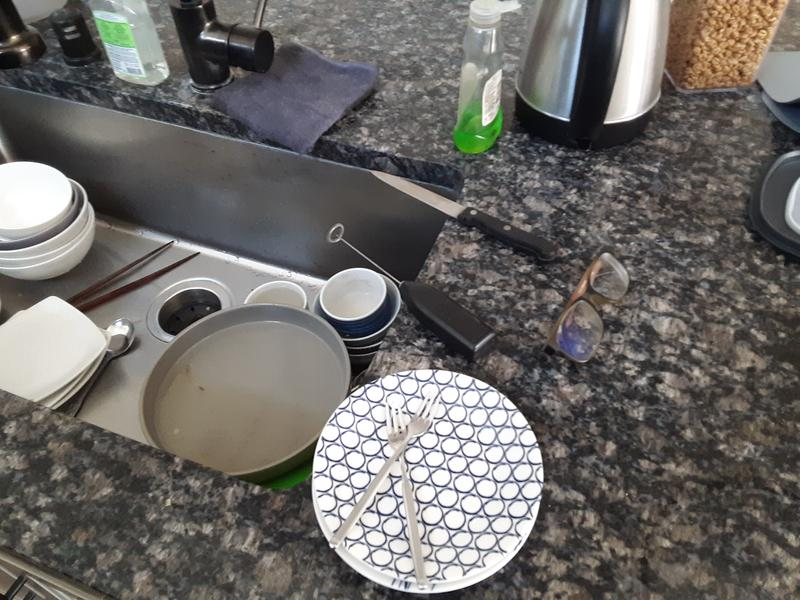glasses: (541, 248, 632, 366)
